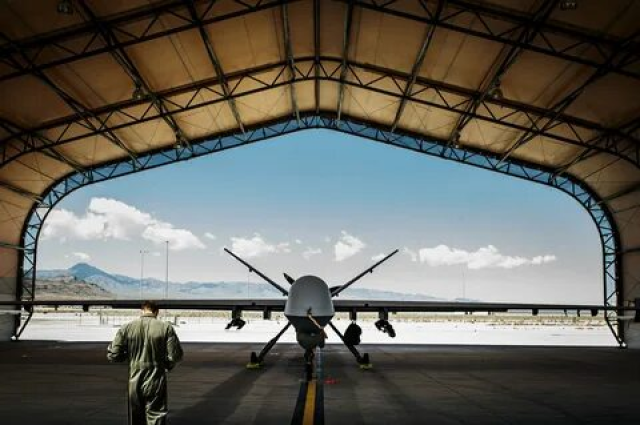military drone: (0, 248, 640, 366)
